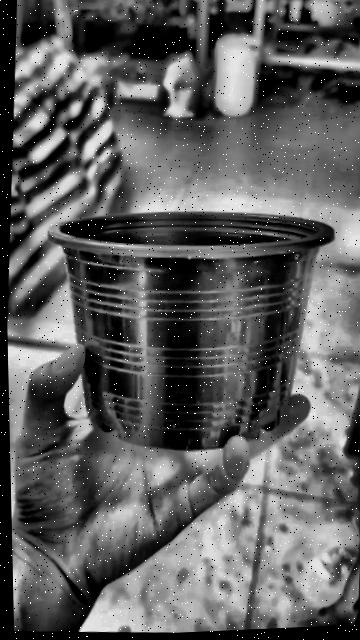pot: (48, 212, 332, 451)
